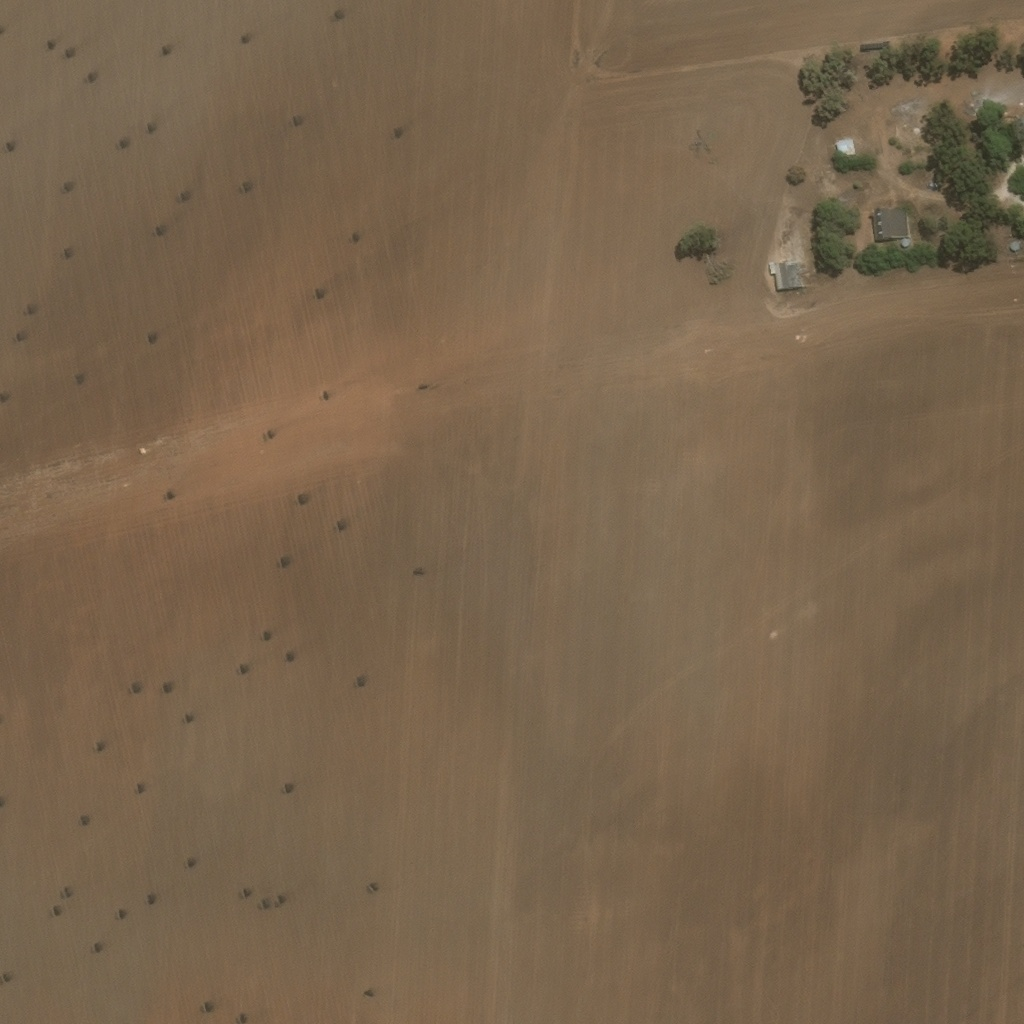0 no-damage: (875, 207, 910, 240), (769, 261, 802, 289), (838, 138, 858, 157), (1010, 240, 1020, 252), (900, 239, 909, 247)
